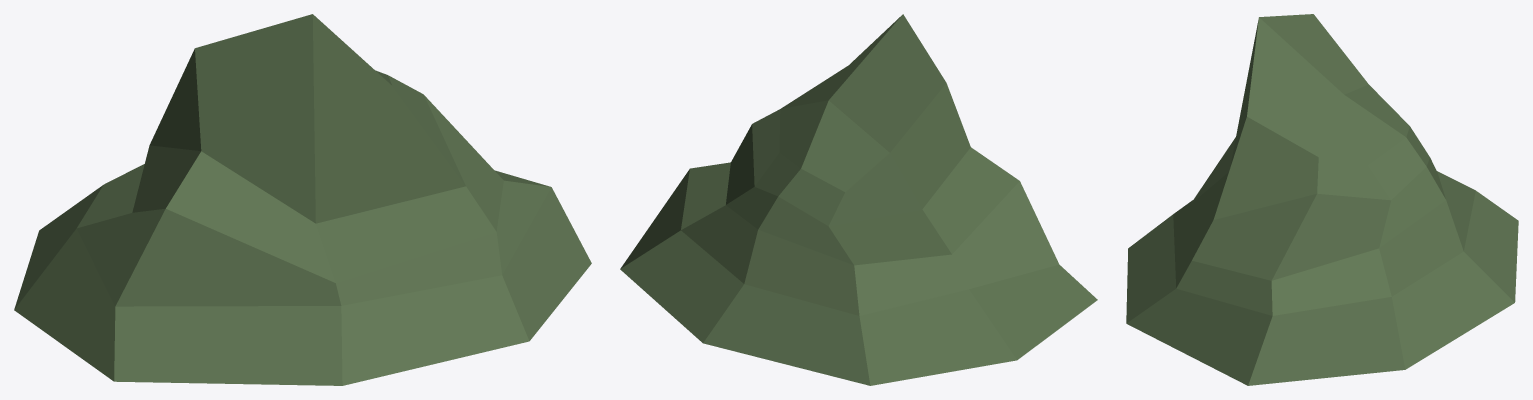
The model's file is mossStoneD.glb.
3 renders of one model, left to right at view 1: azimuth 30°, elevation 25°; view 2: azimuth 150°, elevation 25°; view 3: azimuth 270°, elevation 25°, orthographic. The views are drawn at different scales.
Parts seen in each view (by area): view 1: mossStoneD; view 2: mossStoneD; view 3: mossStoneD.
Part boxes in pixels (left/top/right/bottom): mossStoneD: left=14, top=14, right=591, bottom=385; mossStoneD: left=620, top=14, right=1097, bottom=385; mossStoneD: left=1126, top=14, right=1518, bottom=385.
Bounding box in the file's own units: 2.31 × 1.4 × 1.93.
